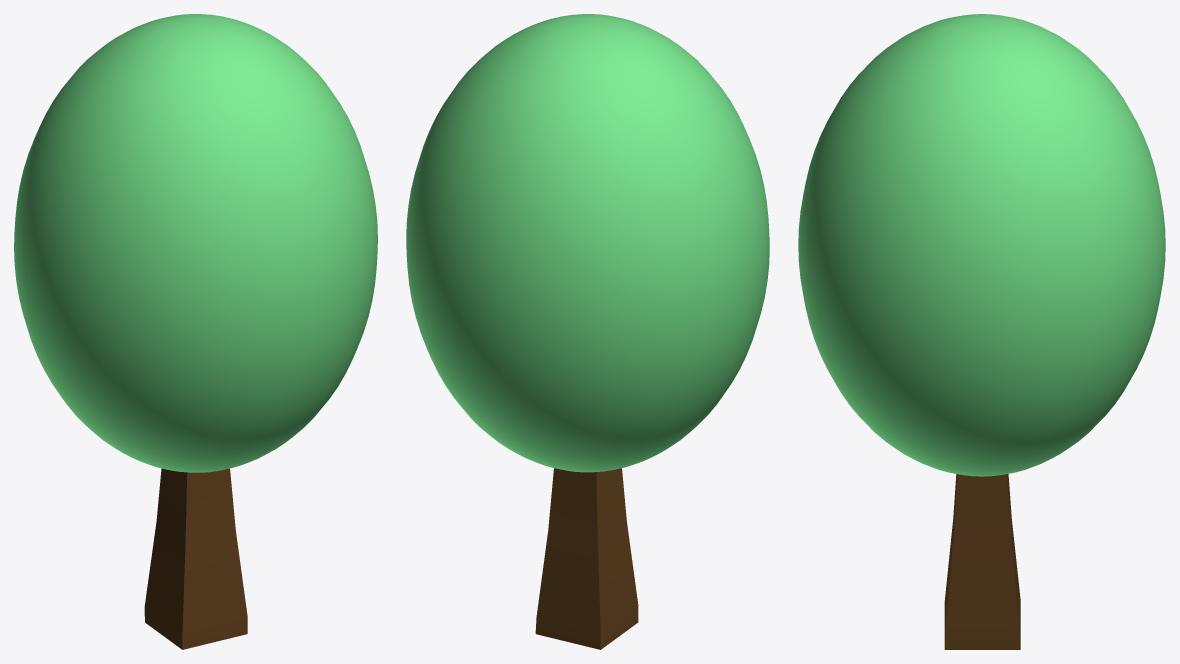
The model's file is treeLP2.glb.
The picture shows the model from 3 angles, left to right: view 1: azimuth 30°, elevation 25°; view 2: azimuth 150°, elevation 25°; view 3: azimuth 270°, elevation 25°; orthographic projection.
Parts seen in each view (by area): view 1: Sphere, Cube; view 2: Sphere, Cube; view 3: Sphere, Cube.
Part boxes in pixels (left/top/right/bottom): Sphere: left=14, top=14, right=377, bottom=472; Cube: left=144, top=468, right=247, bottom=649; Sphere: left=406, top=14, right=769, bottom=472; Cube: left=535, top=468, right=638, bottom=649; Sphere: left=798, top=14, right=1165, bottom=476; Cube: left=944, top=474, right=1020, bottom=649.
Size of the model in its own units: 6.05 by 11.01 by 6.05.
